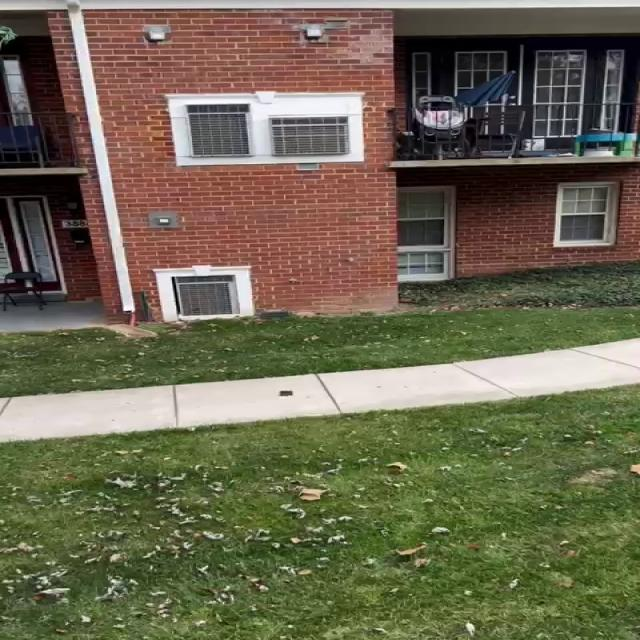wallet: (278, 390, 296, 397)
